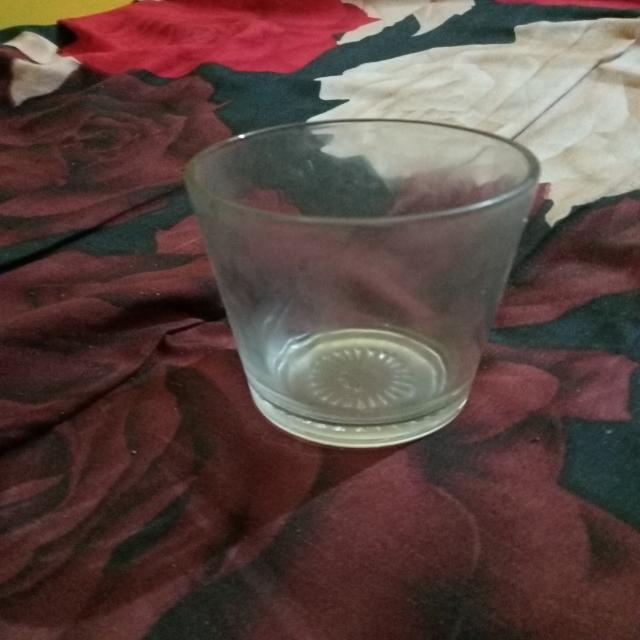Glass: (175, 114, 546, 451)
